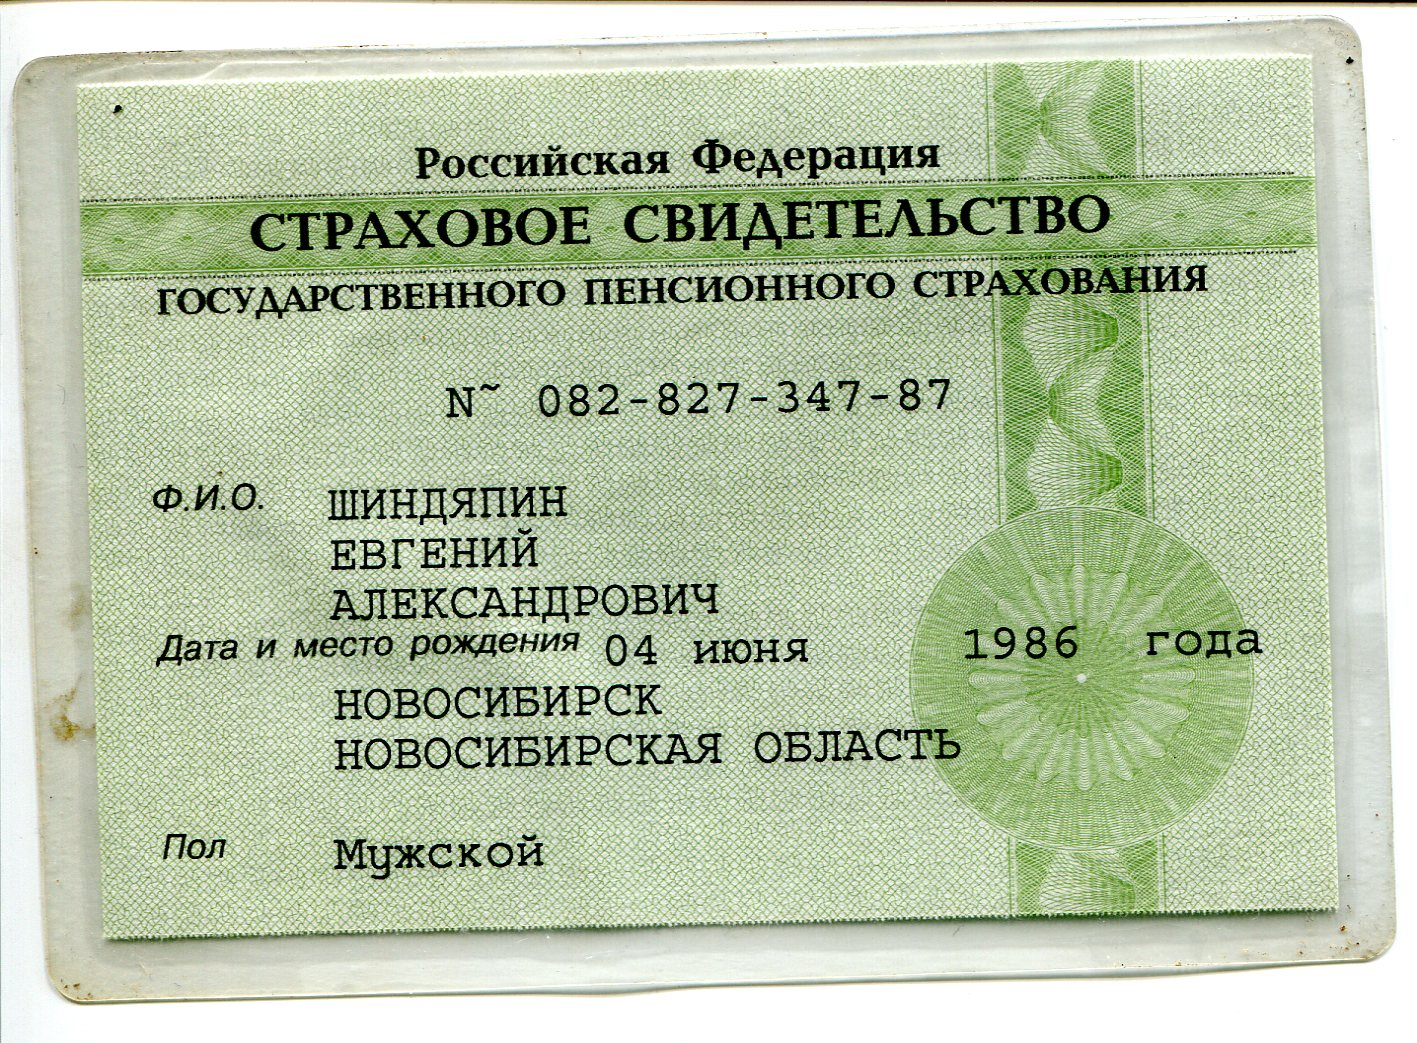text: (326, 676, 969, 766), (600, 621, 1266, 676), (436, 366, 962, 422), (325, 577, 727, 625), (321, 477, 574, 531), (321, 525, 559, 577), (334, 831, 552, 881)
